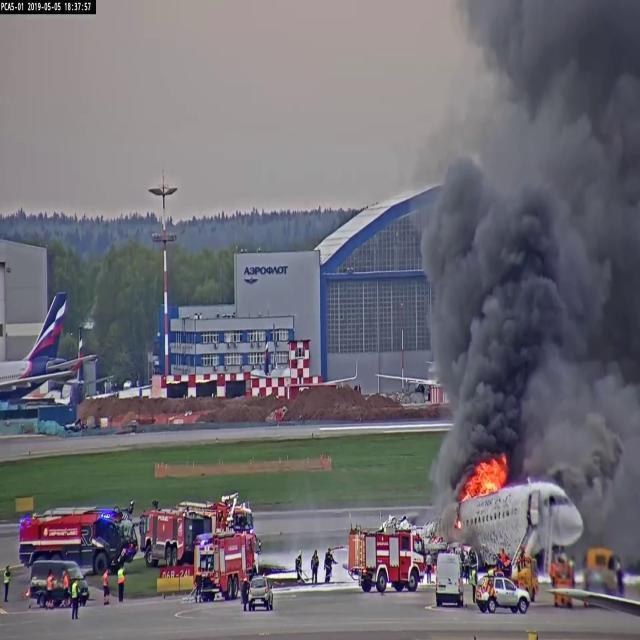Fire: (464, 458, 507, 509)
Smoke: (530, 31, 636, 488), (429, 170, 557, 450)
